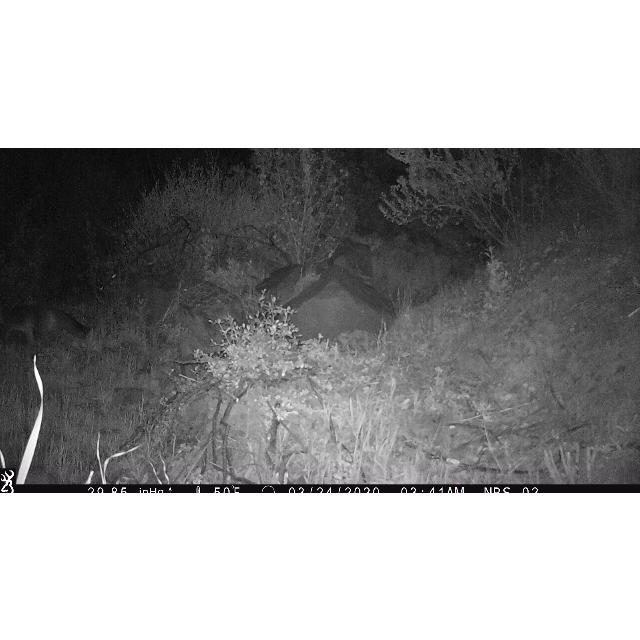animals: (0, 296, 90, 348)
